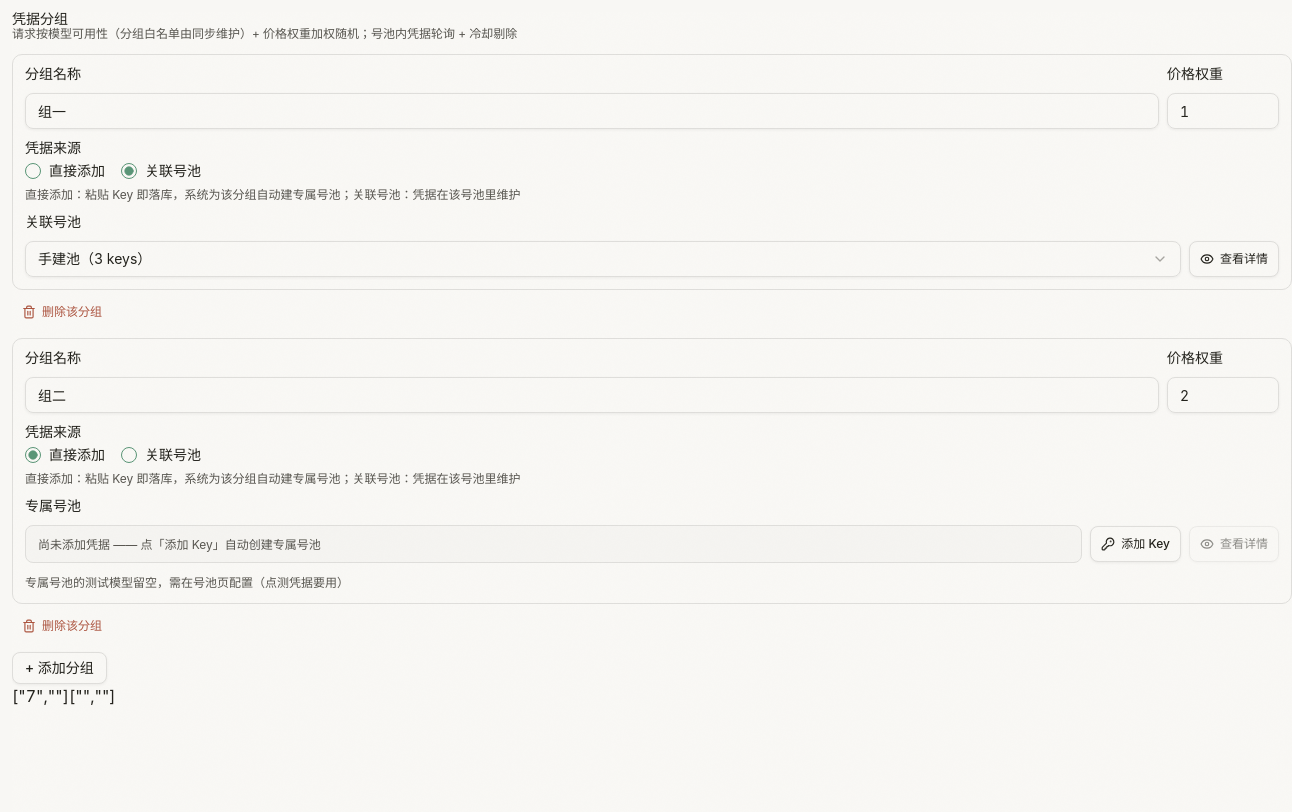
it: 凭据分组区 - 取 Key 模式（直接添加 / 关联号池） › 绑的是手建池时默认落在「关联号池」；切到「直接添加」会解绑（专属池只收自己的 Key）
Click the 1st radio button named "直接添加" at (33, 171), box [25,163,41,179]
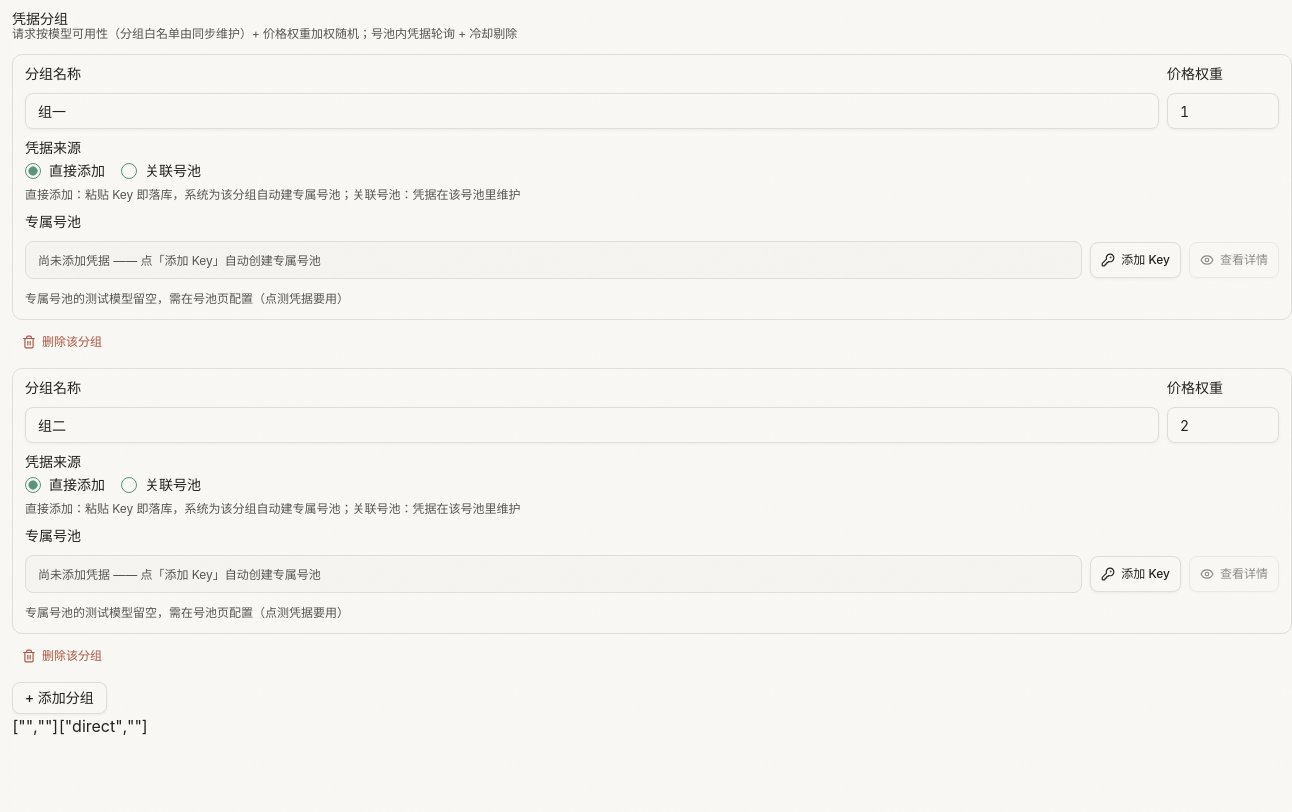
Expected: the text with test id "probe-pool-ids" reads "[\"\",\"\"]", [12,716,59,736]
Expected: the text with test id "probe-modes" reads "[\"direct\",\"\"]", [59,716,148,736]
